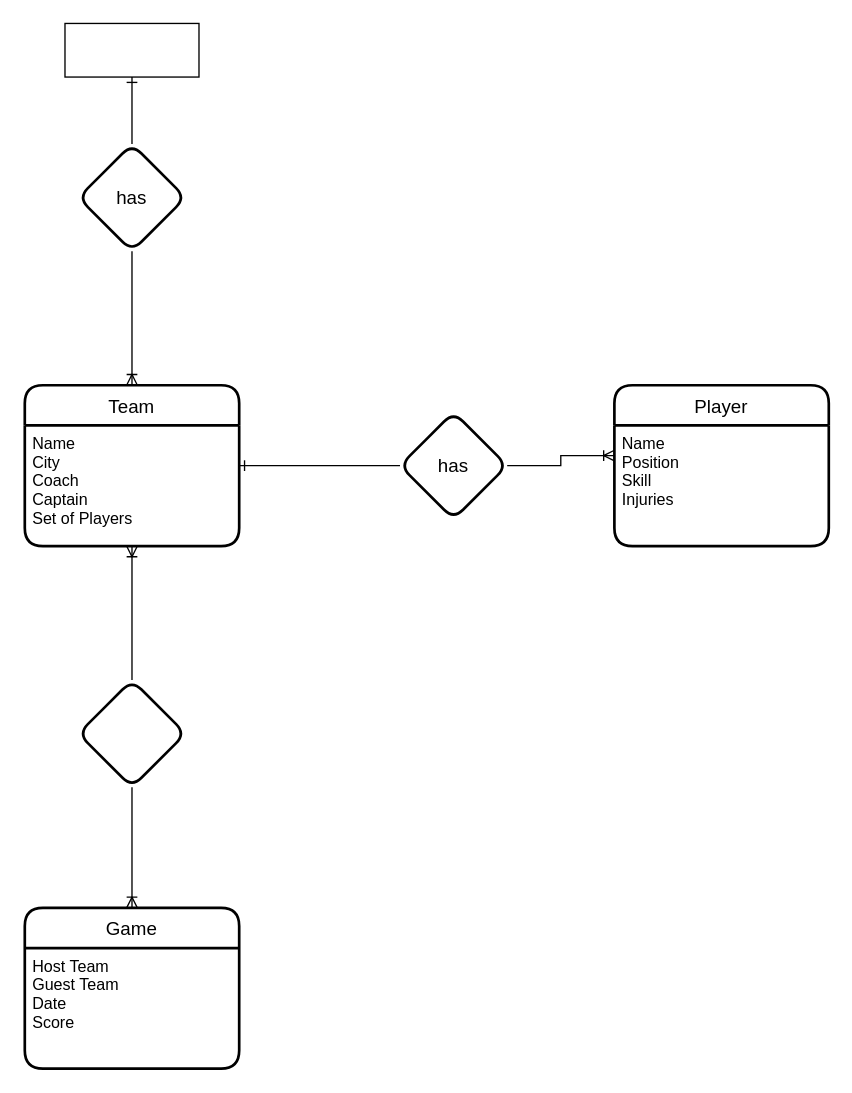
Some shapes in this 852 by 1093 pixel diagram are drawn without their labels. Here are the shapes that lost their labels. From the top down, the centre of each, then its label:
the point at 131,49: NHL
the point at 131,733: play
